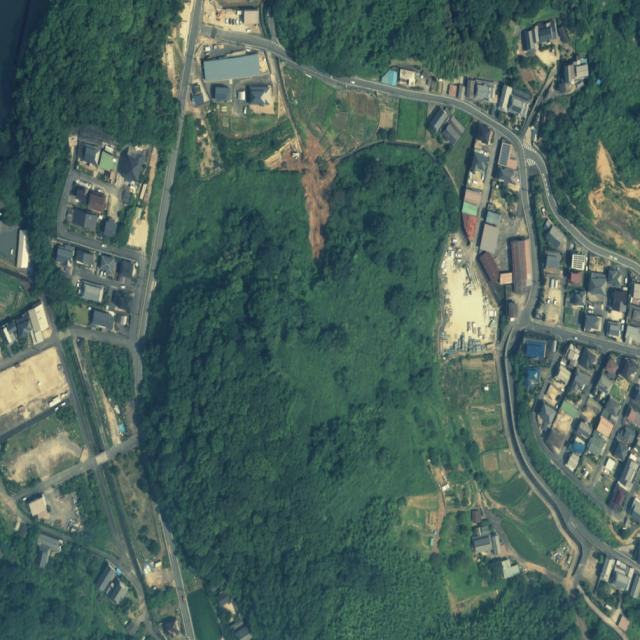landslide: (298, 137, 331, 258)
